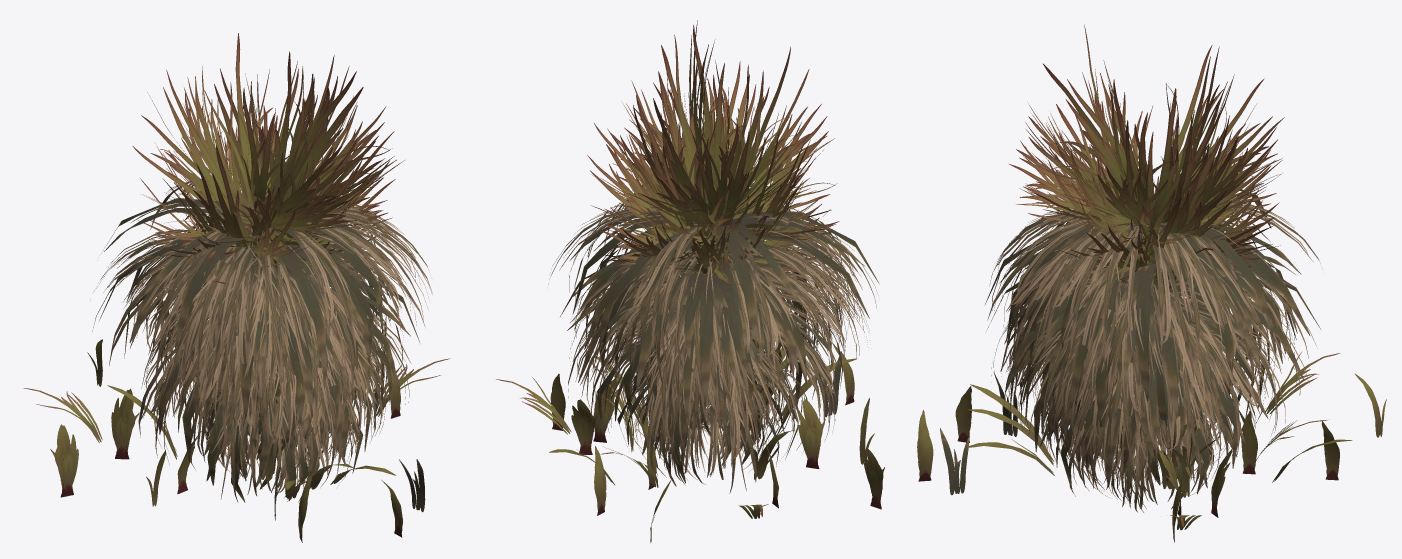
3 renders of one model, left to right at view 1: azimuth 30°, elevation 25°; view 2: azimuth 150°, elevation 25°; view 3: azimuth 270°, elevation 25°, orthographic. The views are drawn at different scales.
Parts seen in each view (by area): view 1: SM_US_TuftSedge_01_LOD0; view 2: SM_US_TuftSedge_01_LOD0; view 3: SM_US_TuftSedge_01_LOD0.
Boxes of the visible parts, x1,y1,x2,y2 form: SM_US_TuftSedge_01_LOD0: [23, 33, 450, 542]; SM_US_TuftSedge_01_LOD0: [496, 20, 884, 542]; SM_US_TuftSedge_01_LOD0: [917, 24, 1386, 542].
Bounding box in the file's own units: 0.9529 × 1.01 × 0.9278.
1 material, 1 textured.
